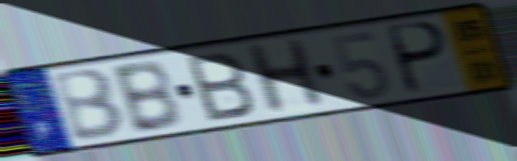5: (327, 28, 392, 102)
B: (48, 65, 130, 145), (108, 58, 185, 137), (182, 49, 258, 124)
H: (241, 35, 329, 119)
P: (387, 19, 451, 98)
